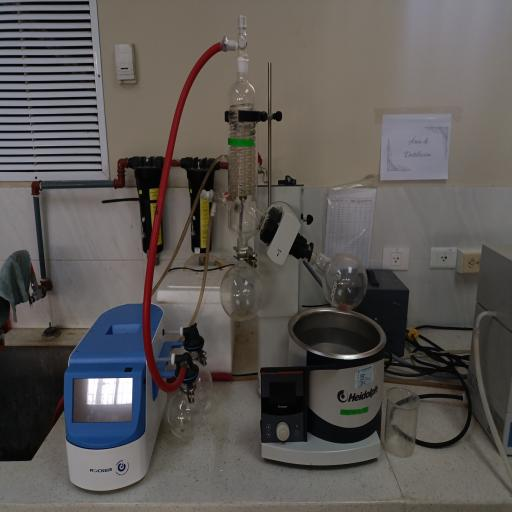Sistema_Rotaevaporacion: (59, 4, 399, 496)
